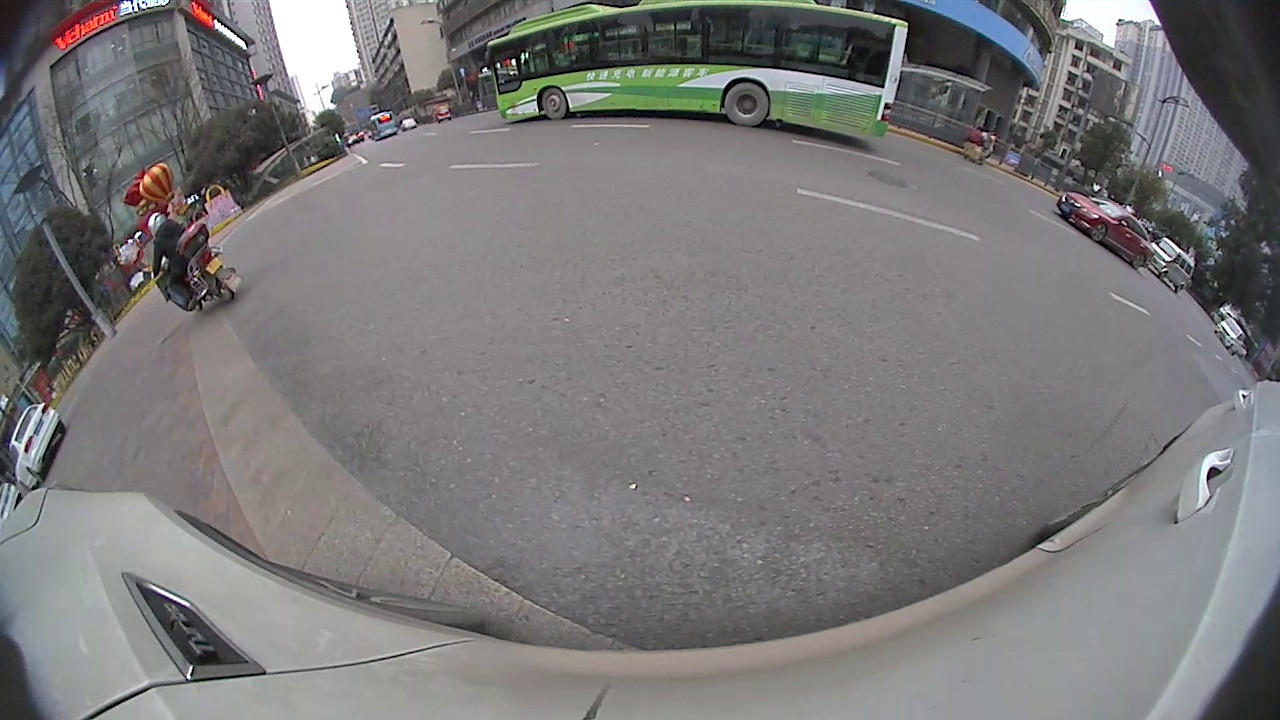bus: (486, 2, 909, 126)
car: (1055, 185, 1154, 268), (11, 402, 67, 487), (1146, 236, 1193, 293)
front: (539, 87, 569, 123), (1088, 219, 1110, 244)
rear: (723, 82, 770, 128), (1130, 249, 1148, 271)
rider: (145, 211, 236, 311)
